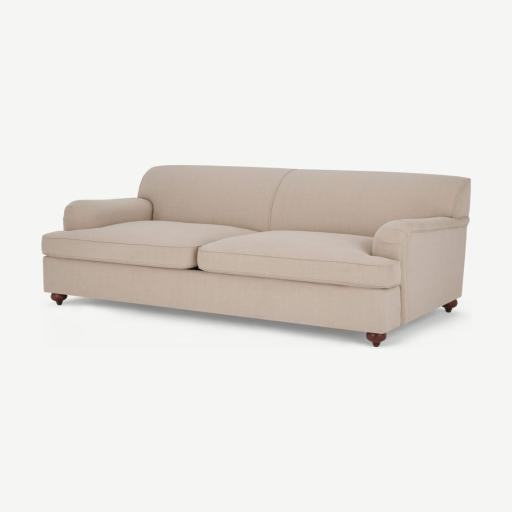back_cushion: (139, 165, 470, 236)
base: (43, 257, 399, 331)
left_arm: (373, 217, 468, 324)
legs: (366, 333, 387, 347), (51, 294, 67, 305), (446, 301, 456, 312)
right_arm: (64, 198, 153, 230)
seat_cushion: (43, 221, 395, 284)
two-seater: (0, 0, 511, 512)
